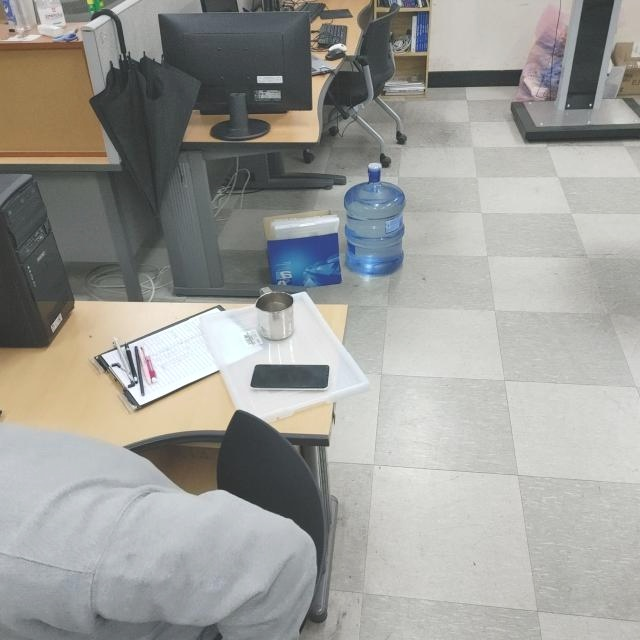cup: (254, 284, 297, 342)
phone: (248, 362, 330, 393)
